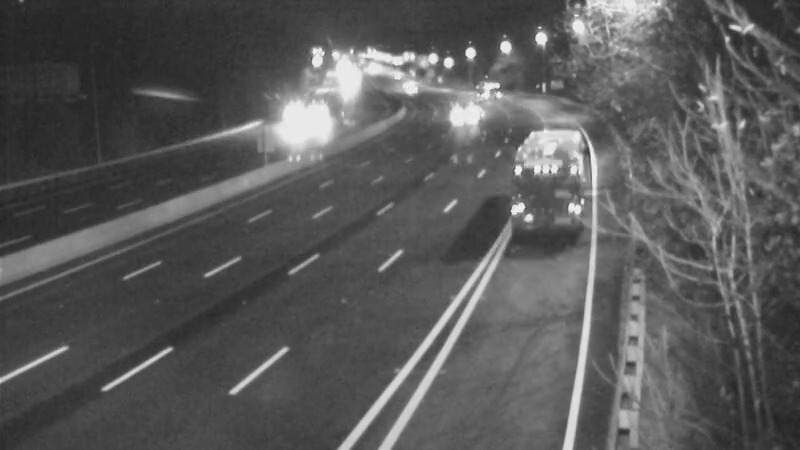vehicle: (508, 121, 588, 201), (388, 65, 438, 115), (459, 63, 509, 113), (438, 85, 488, 135), (267, 97, 317, 147), (296, 100, 346, 150)
